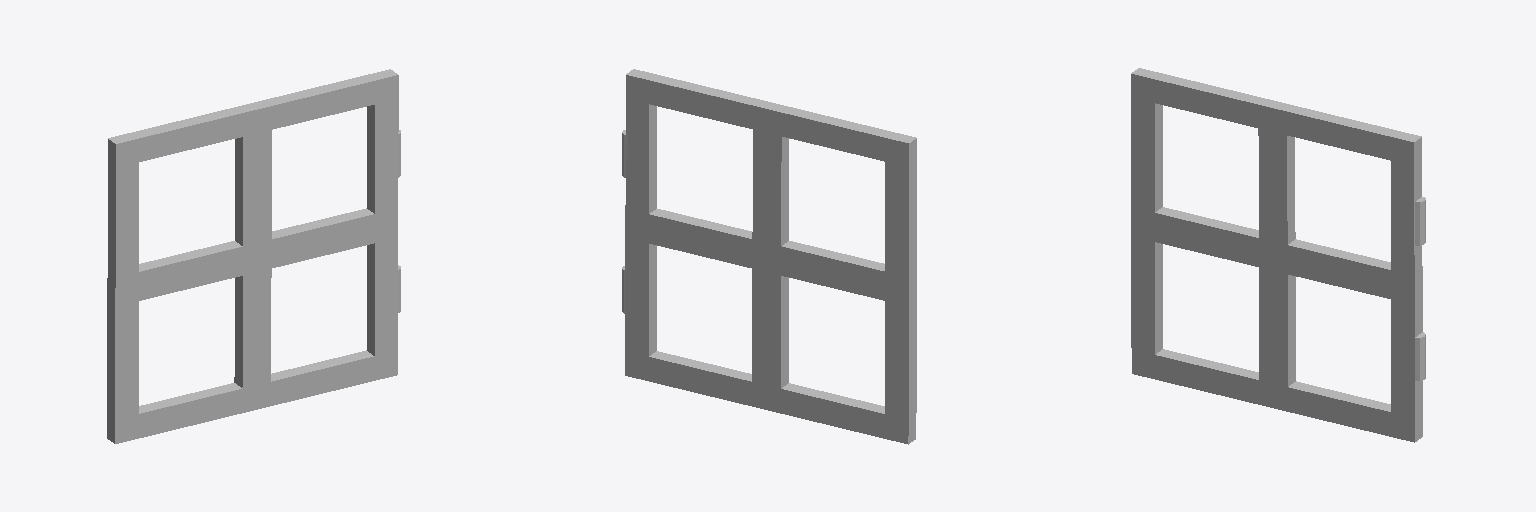
Rendered from fenetre-droite.obj.
3 views of the same model, side by side, from view 1: azimuth 30°, elevation 25°; view 2: azimuth 150°, elevation 25°; view 3: azimuth 330°, elevation 25° (orthographic).
Visible parts, largest first — view 1: interaction_fenetregauche; view 2: interaction_fenetregauche; view 3: interaction_fenetregauche.
Part boxes in pixels (left/top/right/bottom): interaction_fenetregauche: left=107, top=69, right=400, bottom=443; interaction_fenetregauche: left=622, top=69, right=916, bottom=444; interaction_fenetregauche: left=1131, top=68, right=1425, bottom=442.
Size of the model in its own units: 60.3 by 59.9 by 3.18.